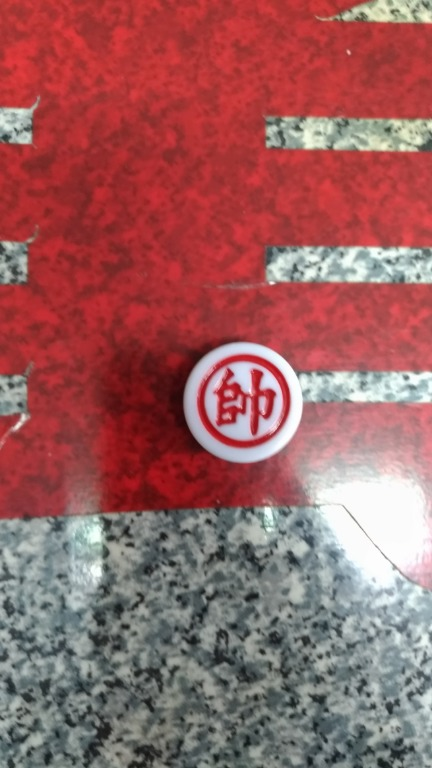r-king: (174, 338, 312, 468)
